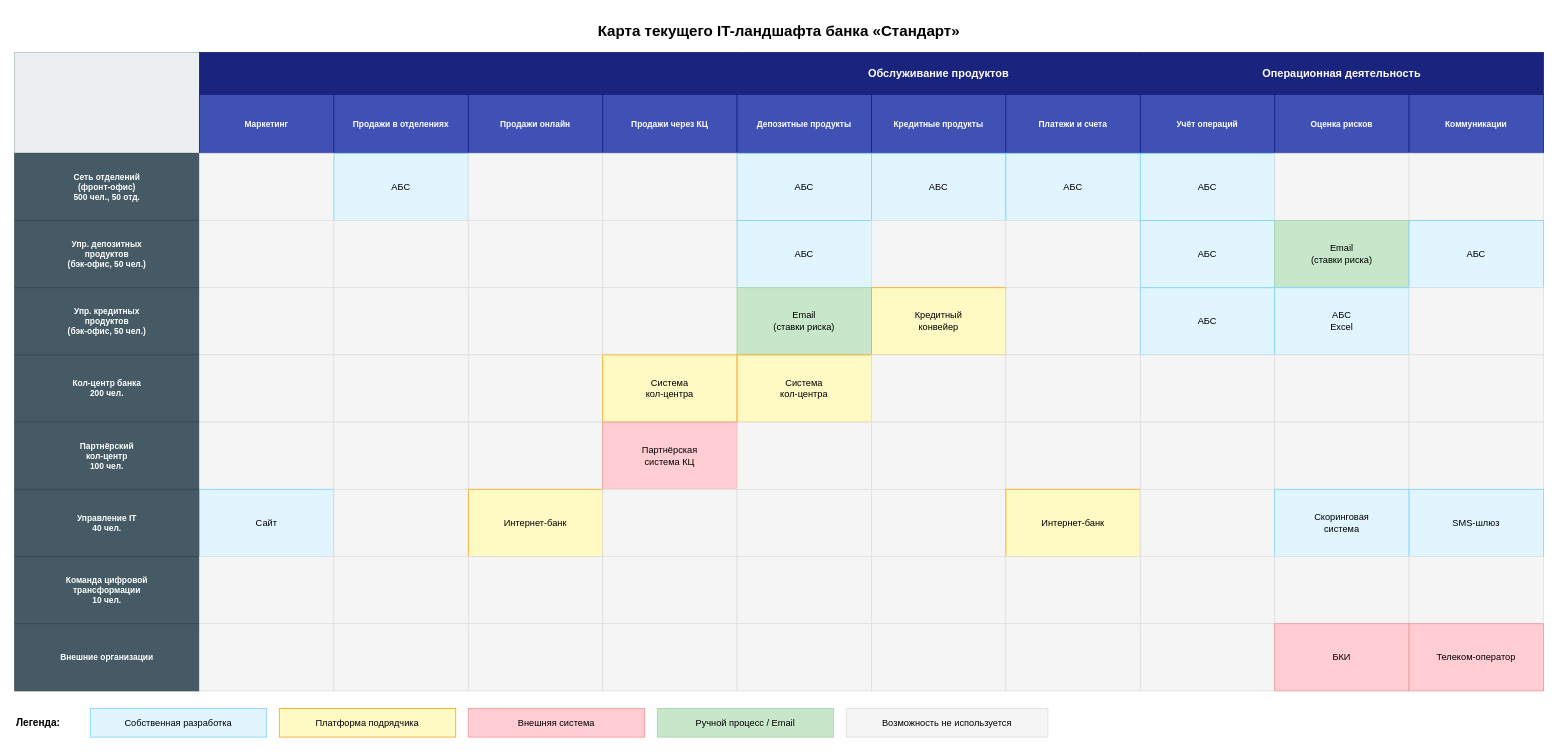
The diagram is 1558 pixels wide and 752 high, and some of its shapes have lost their labels. The centre of each missing label's shape, as x and y in pixels:
"Подразделение / Бизнес-возможность" belongs at [107,102].
"Продажи и маркетинг" belongs at [468,73].
